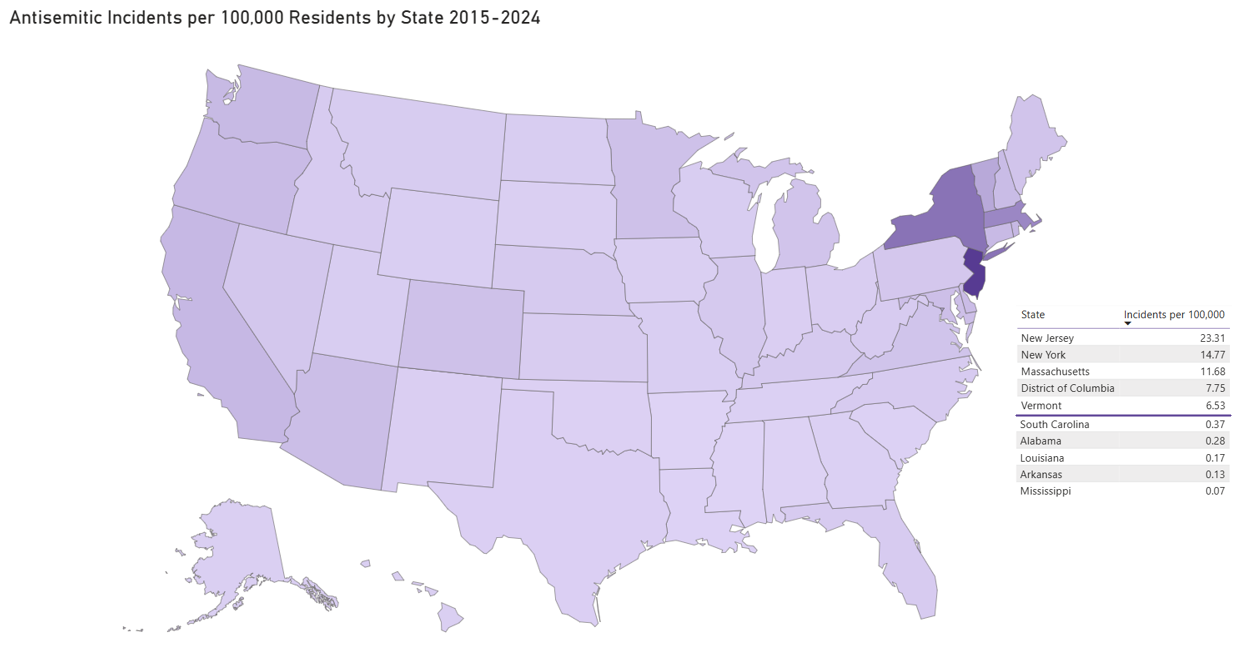

Layout of this report page (visuals, bound fields, positions):
{"tool":"powerbi","page":{"name":"AS Map","canvas":[1280,720],"ordinal":4},"visuals":[{"type":"shapeMap","title":"Antisemitic Incidents per 100,000 Residents by State 2015-2024","fields":{"Category":["State Incidents per Capita.State"],"Value":["Sum(State Incidents per Capita.AS Incidents per 100,000)"]},"box":[32.1,17,1218.9,684.1],"z":0}]}

Visuals, with their boxes on the page's 1280x720 design canvas (x1, y1, x2, y2). These are canvas units, not pixel positions in the 1254x655 screenshot, which may show the page scaled, cropped or inside an application window:
"Antisemitic Incidents per 100,000 Residents by State 2015-2024" shapeMap: <bbox>32, 17, 1251, 701</bbox>
